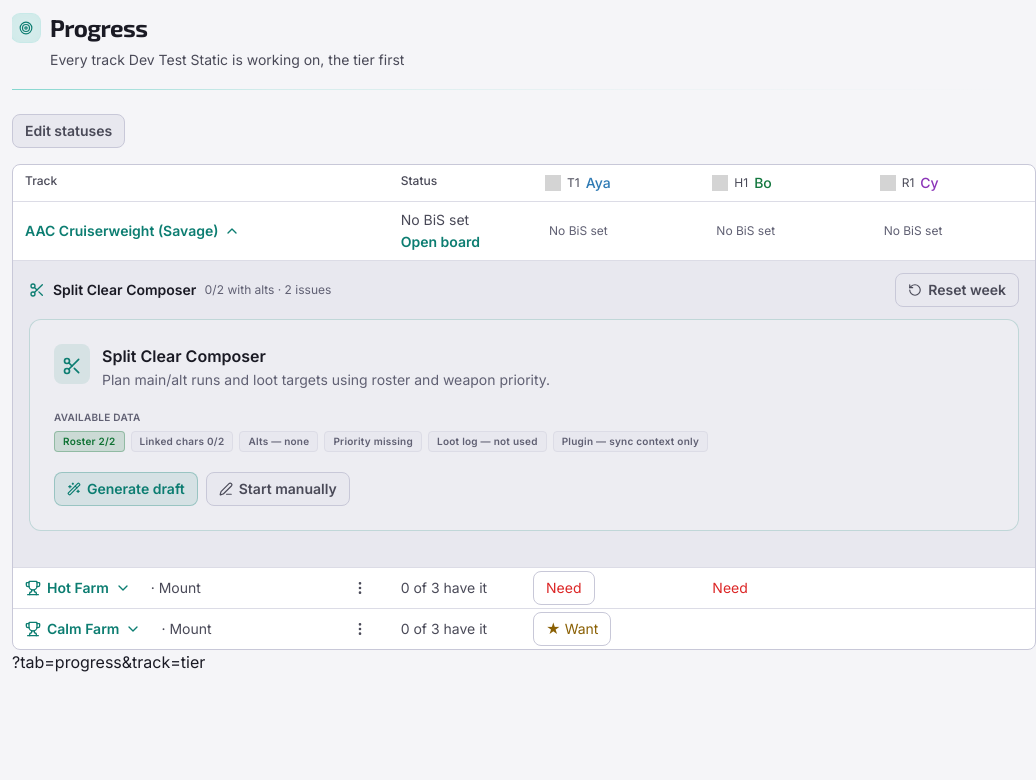
Test: ProgressPage tier row with split clears on › opening a farm hides the tier panel, and opening the tier closes the farm
Click the button "Hot Farm".
click(78, 588)  # box [13,572,143,604]
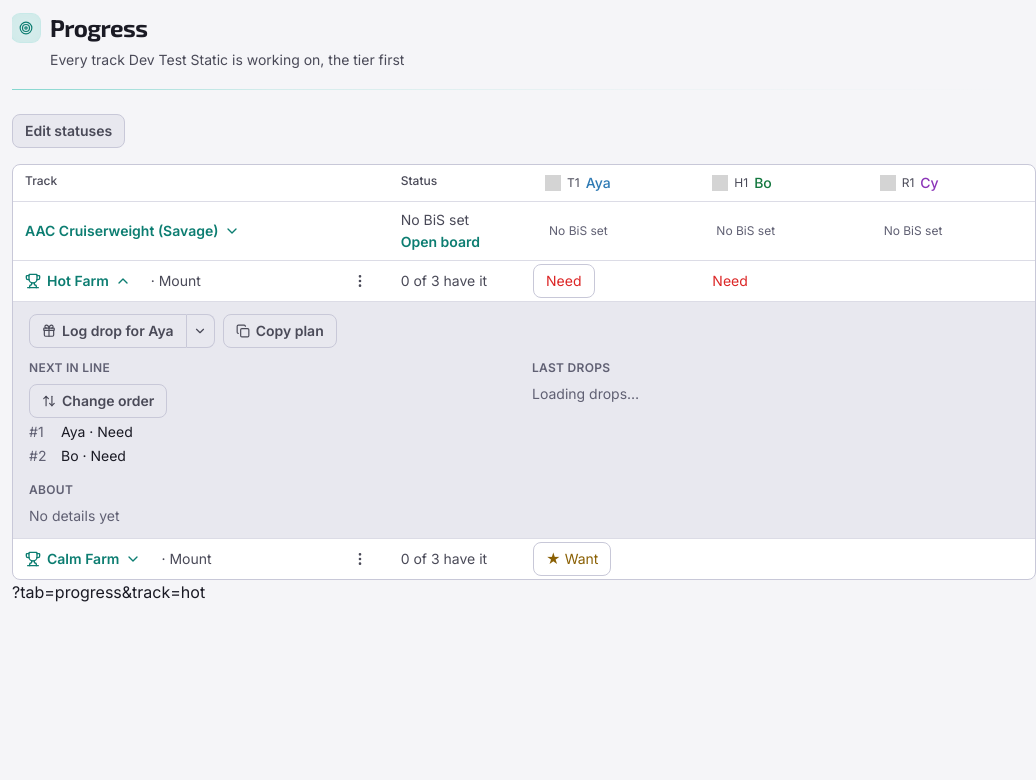
Expected: the button "AAC Cruiserweight (Savage)" is collapsed
Expected: the row with test id "progress-expansion" is shown, [13,302,1035,538]
Click the button "AAC Cruiserweight (Savage)".
click(133, 231)  # box [13,215,252,247]
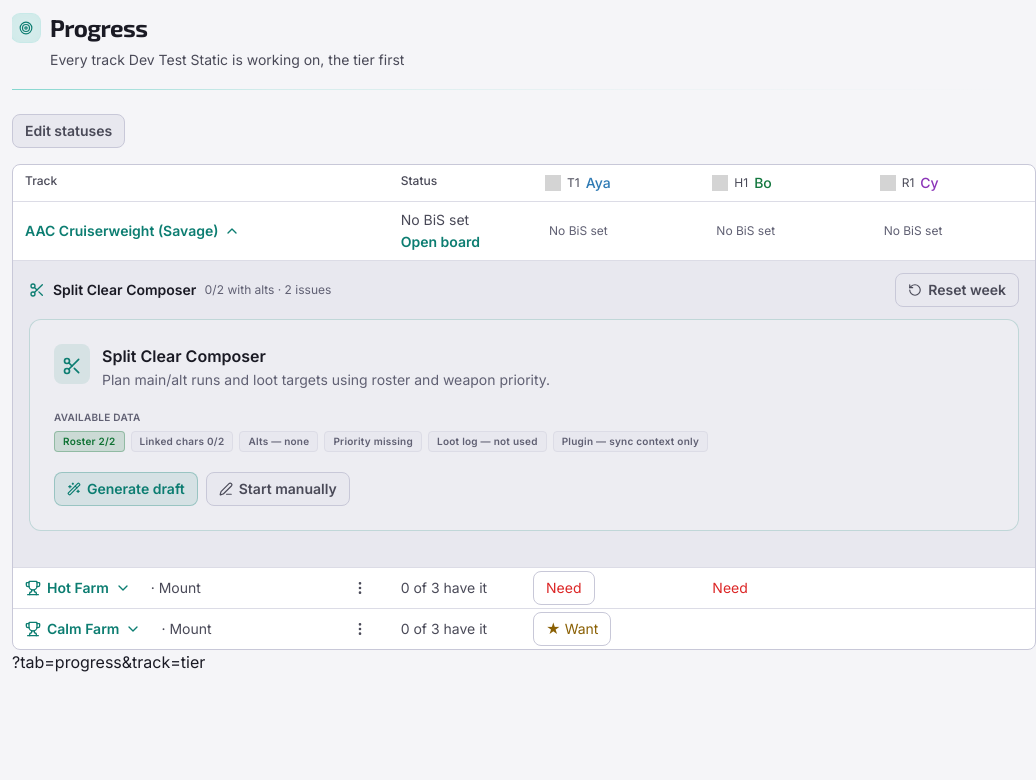
Expected: the row with test id "progress-expansion" is gone
